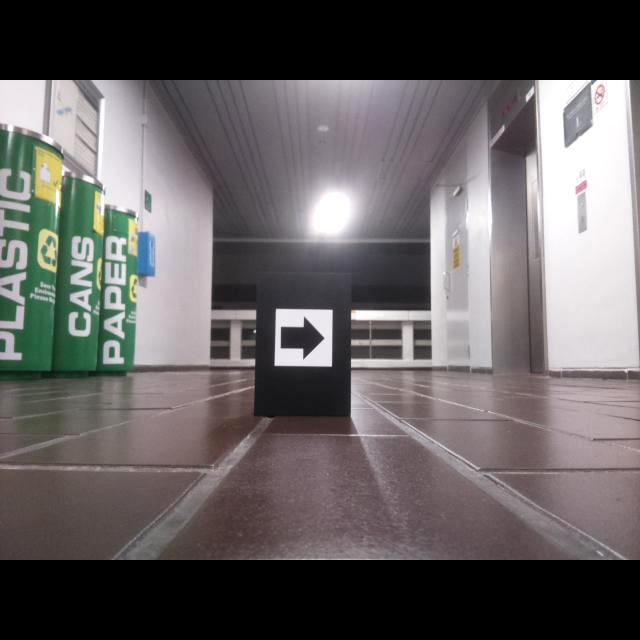RIGHT: (280, 316, 325, 359)
